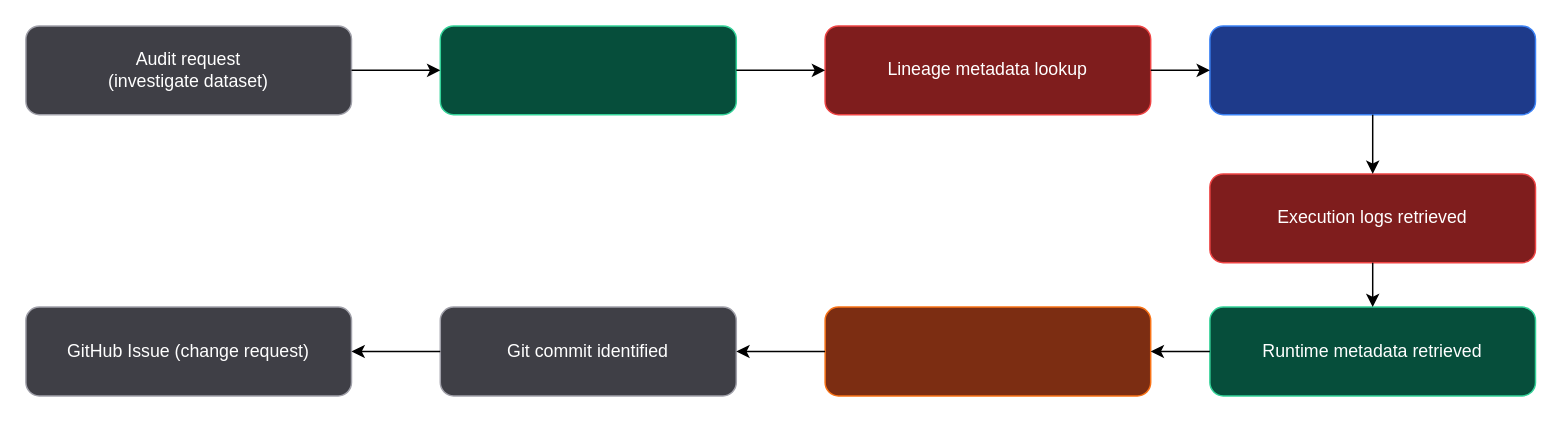
The diagram is 1561 pixels wide and 422 high, and some of its shapes have lost their labels. Here are the shapes that lost their labels. From the top down, the centre of each, then its label:
the point at 587,69: Gold dataset (S3)
the point at 1372,69: Pipeline run ID identified
the point at 987,351: Artifact version identified
